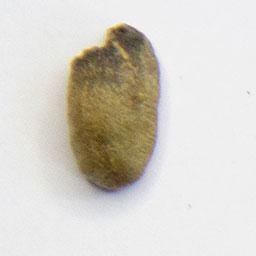defect: (64, 22, 163, 193)
